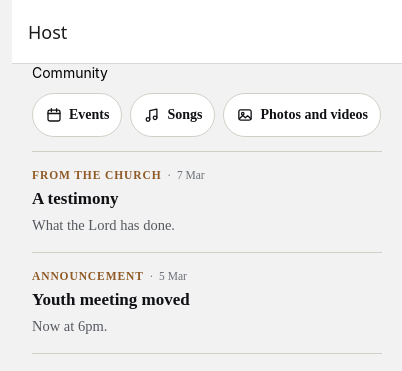
Test case: what the church has said › opens a post on the post detail, not the announcement one
This screenshot has width=402, height=371.
Click the button with test id "community-post-p1" at {"x": 97, "y": 175}, box top-left (32, 152), bottom-right (382, 253)
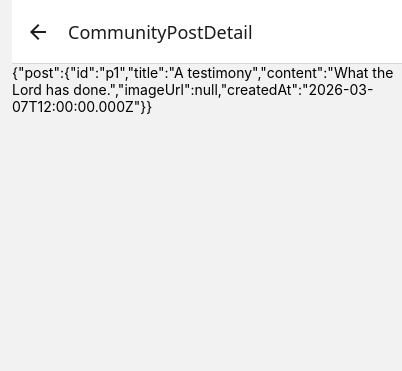
Now the text with test id "post-detail-stub" is shown, box top-left (12, 64), bottom-right (401, 115)
